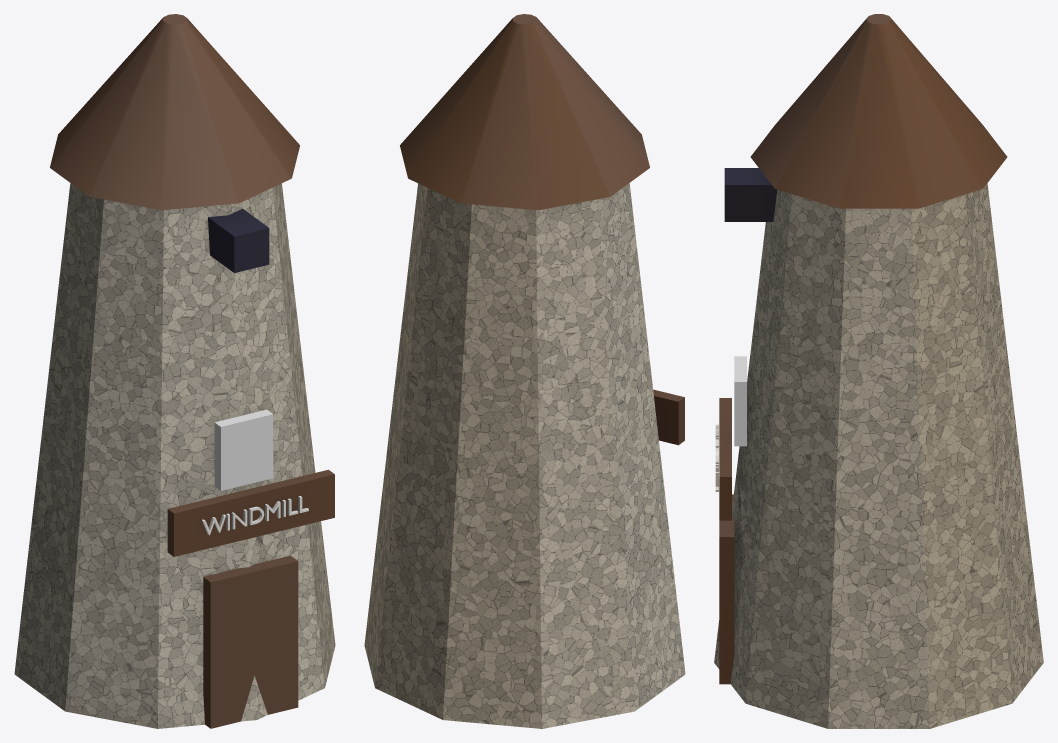
The model's file is home_windmill_2.fbx.
3 renders of one model, left to right at view 1: azimuth 30°, elevation 25°; view 2: azimuth 150°, elevation 25°; view 3: azimuth 270°, elevation 25°, orthographic.
Visible parts, largest first — view 1: home_windmill_2_body, home_windmill_2_body_glow; view 2: home_windmill_2_body; view 3: home_windmill_2_body, home_windmill_2_body_glow.
Boxes of the visible parts, x1,y1,x2,y2 form: home_windmill_2_body: (14,14,335,728); home_windmill_2_body_glow: (214,409,273,490); home_windmill_2_body: (364,14,685,728); home_windmill_2_body: (714,14,1043,728); home_windmill_2_body_glow: (734,356,746,446).
Bounding box in the file's own units: 1236 × 2800 × 1300.
2 materials, 1 textured.
